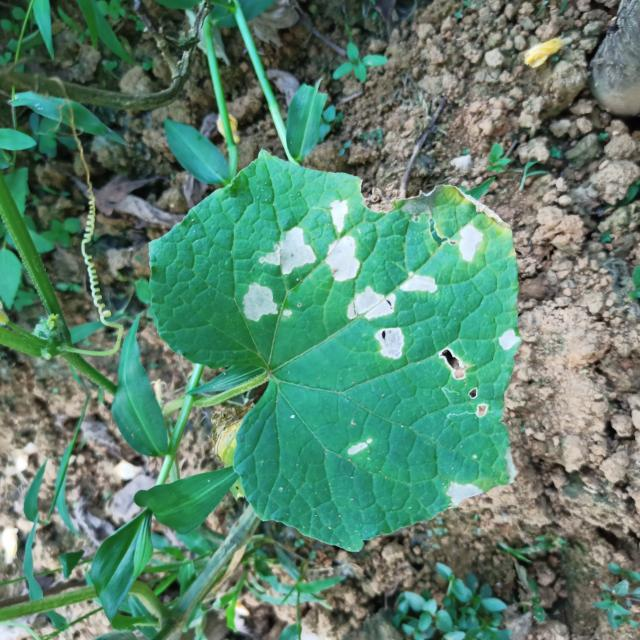disease_cucumber: (346, 286, 404, 360), (438, 346, 488, 419), (327, 200, 362, 282), (260, 227, 317, 276), (243, 282, 293, 323), (447, 480, 483, 506), (459, 225, 484, 262), (401, 270, 438, 294), (498, 327, 519, 352), (347, 438, 374, 457)
